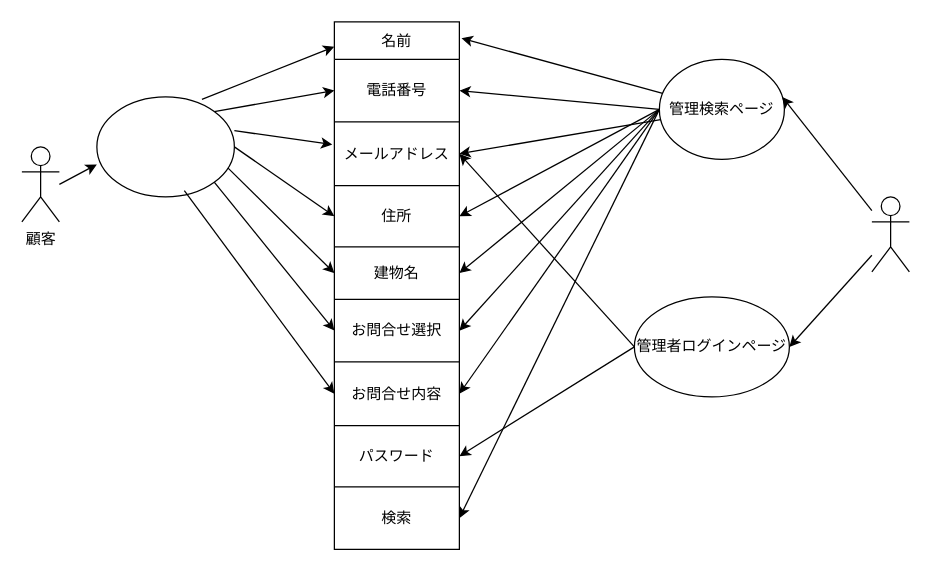
This 935x571 diagram has some shape labels left out. Here are the shapes that lost their labels. From the top down, the box of each, then its label:
(96, 96, 234, 197): お問合せページ
(871, 196, 909, 272): 管理者
